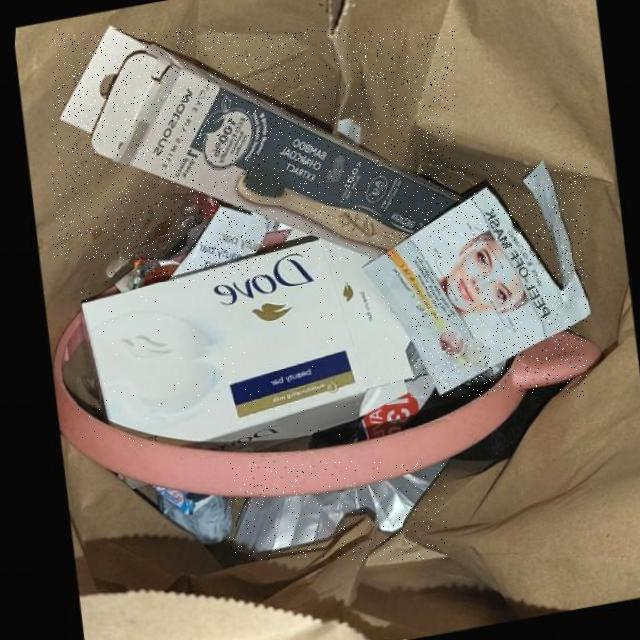metal: (229, 461, 447, 560)
paper: (53, 29, 455, 260), (77, 238, 412, 446), (160, 207, 265, 281)
wrapper: (358, 163, 587, 396)
